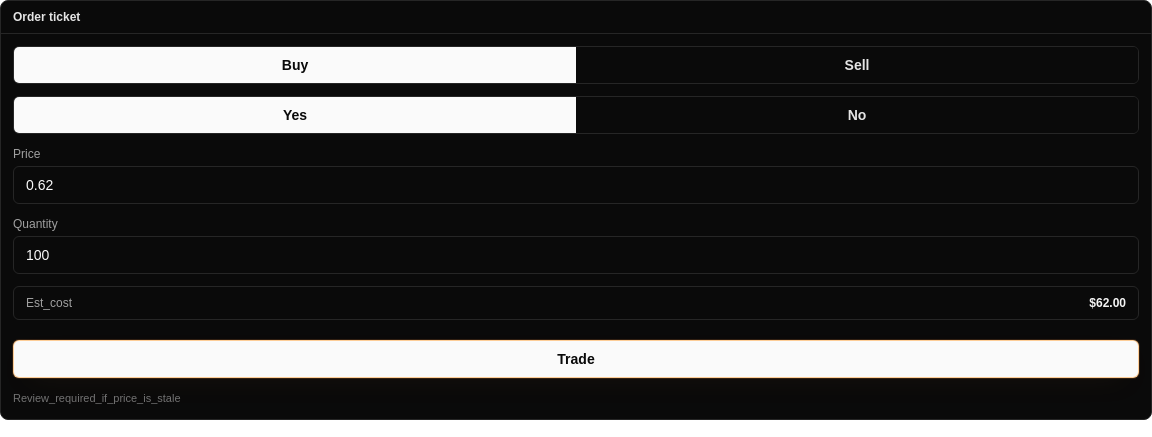
Test: OrderTicketPanel › sanitizes numeric inputs and updates estimated cost
Replace the text in the field with test id "ticket-price" with " 1.5abc " at (576, 185), box left=13, top=166, right=1139, bottom=204
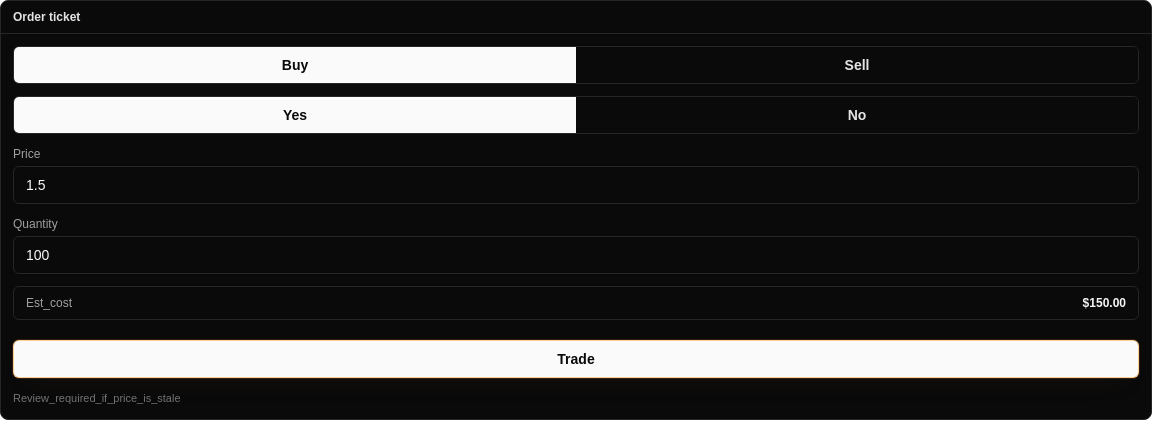
Replace the text in the field with test id "ticket-quantity" with "2x" at (576, 255), box left=13, top=236, right=1139, bottom=274
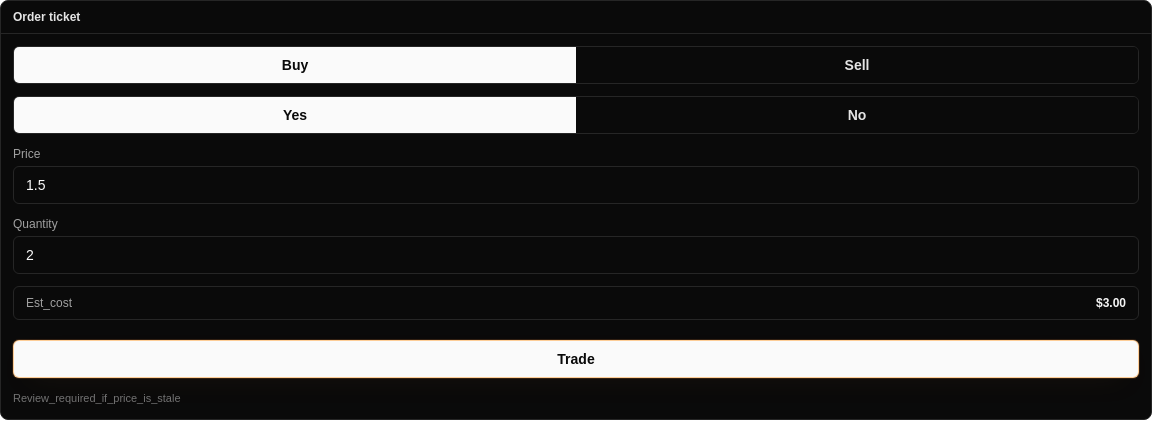
expect the field with test id "ticket-price" holds "1.5": met, box left=13, top=166, right=1139, bottom=204
expect the field with test id "ticket-quantity" holds "2": met, box left=13, top=236, right=1139, bottom=274
expect the text "$3.00" is shown: met, box left=1096, top=295, right=1126, bottom=311
